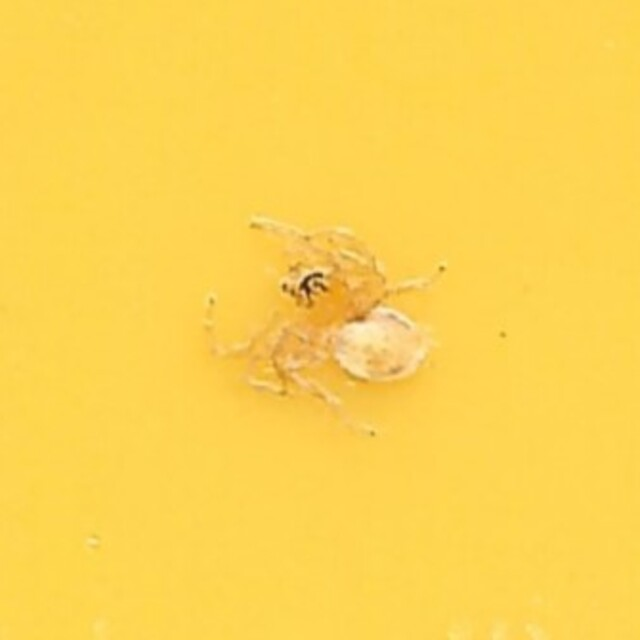Araneae: (191, 212, 449, 428)
